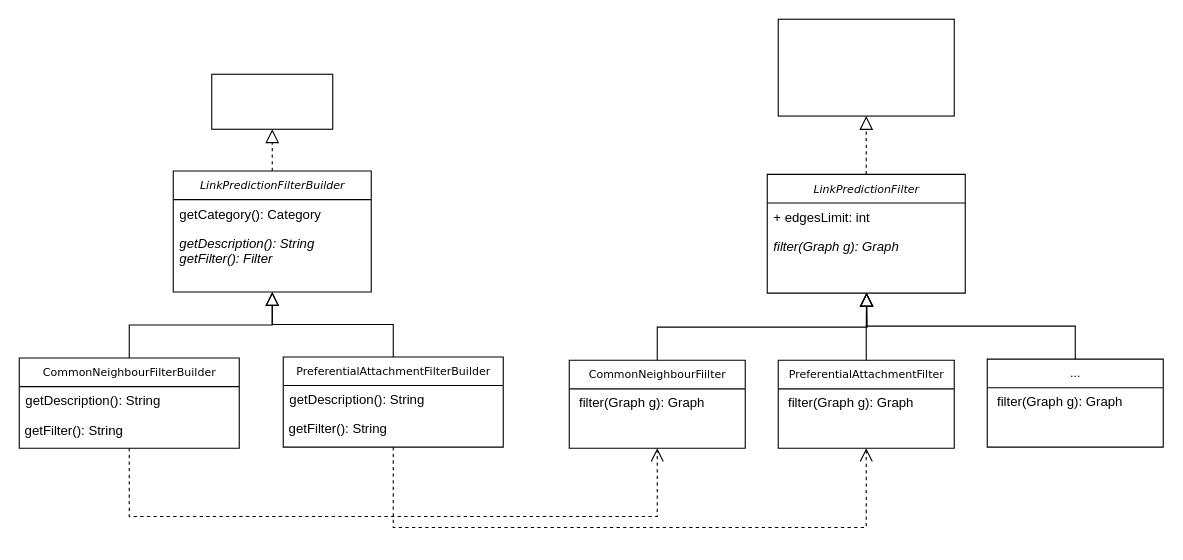
The diagram is 1183 pixels wide and 560 high, and some of its shapes have lost their labels. The centre of each missing label's shape, as x and y in pixels:
<<Interface>> ComplexFilter filter(Graph): Graph: (x=865, y=67)
«interface» FilterBuilder: (x=272, y=101)
